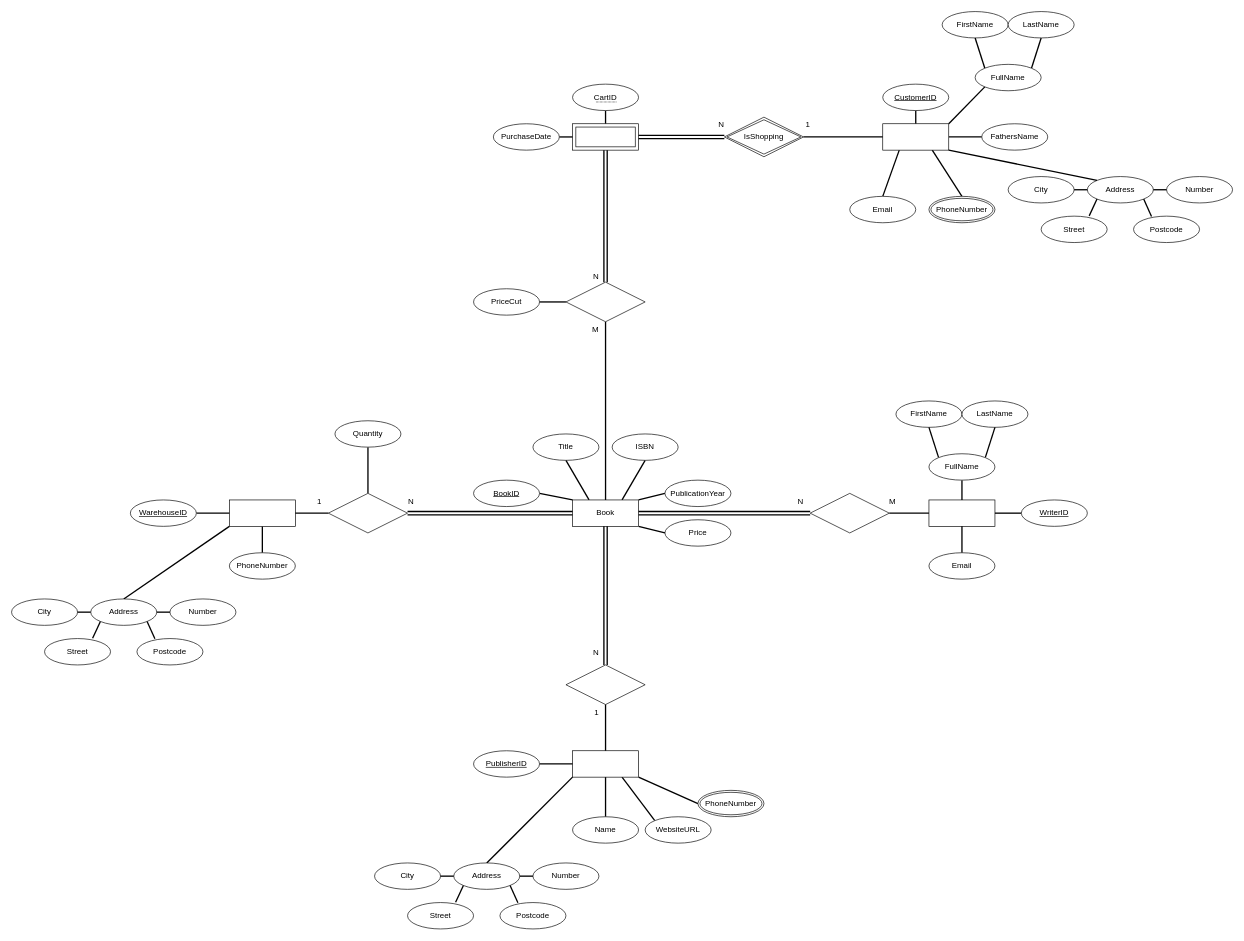
This 1244x941 diagram has some shape labels left out. The shapes that lost their labels are listed below. From the top down, each one's box as (x1, y1, x2, y2) in pixels, then its label:
(572, 123, 639, 150): ShoppingCart
(882, 123, 949, 150): Customer
(565, 281, 645, 322): Contains
(229, 499, 295, 526): Warehouse
(328, 493, 408, 533): Stores
(809, 493, 889, 533): Wrote
(928, 499, 995, 526): Writer
(565, 664, 645, 705): Published
(572, 750, 639, 777): Publisher
